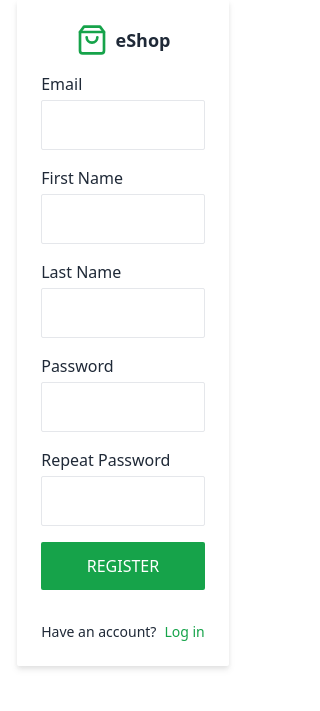
RegisterForm component › should show error message if email is already taken
Type "correct@email.com" into the field labelled "Email". click: (123, 125)
box: [41,100,205,150]
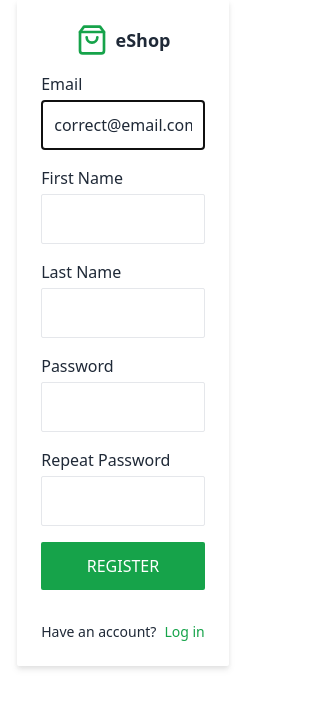
Type "testFirstName" into the field labelled "First Name". click: (123, 219)
box: [41,194,205,244]
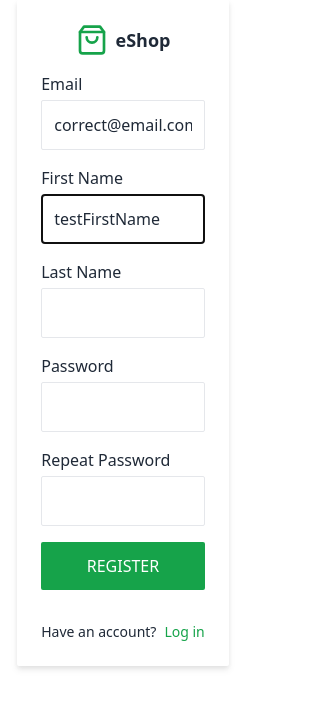
Type "testLastName" into the field labelled "Last Name". click: (123, 313)
box: [41,288,205,338]
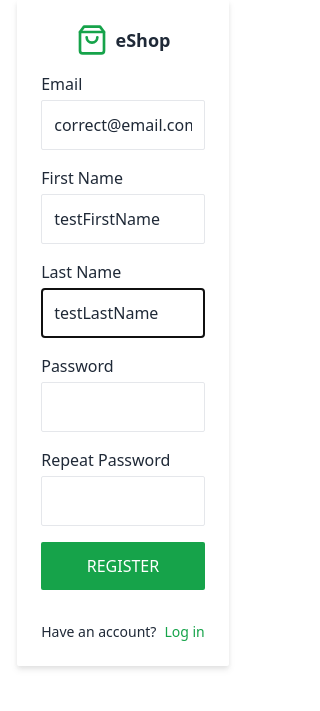
Type "correctPassword" into the password field labelled "Password". click: (123, 407)
box: [41,382,205,432]
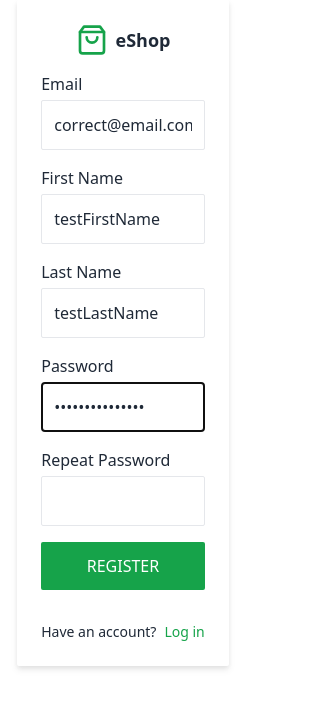
Type "correctPassword" into the password field labelled "Repeat Password". click: (123, 501)
box: [41,476,205,526]
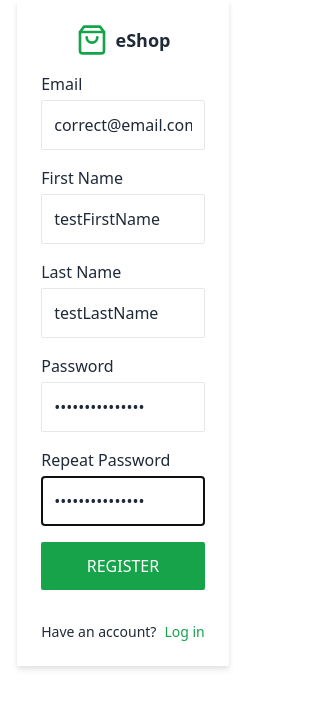
Click the button "Register". click: (123, 566)
box: [41,542,205,590]
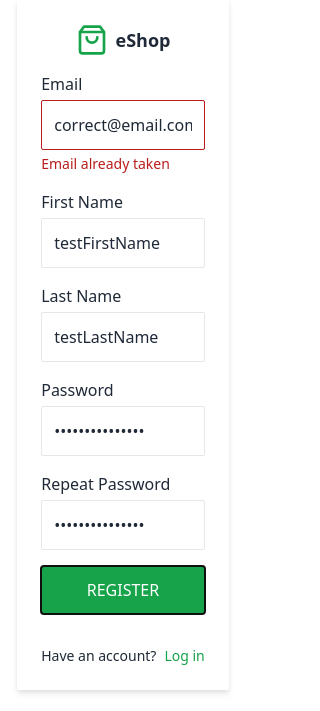
Expected: the text "Email already taken" is shown, [41,154,170,173]
